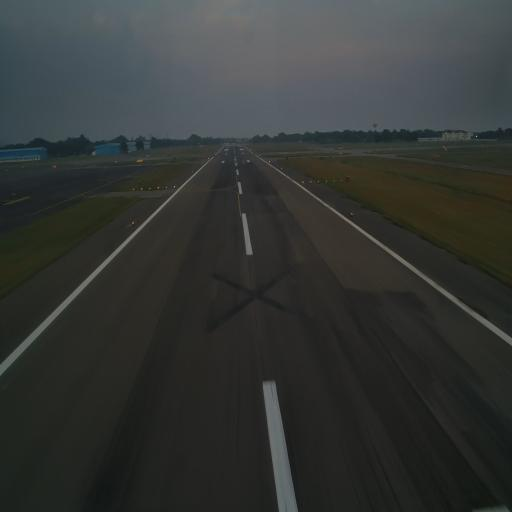on: (350, 210, 354, 217), (132, 220, 136, 226), (148, 186, 152, 192), (301, 179, 305, 185), (164, 185, 168, 190), (340, 178, 344, 183), (157, 185, 160, 191), (173, 184, 176, 190), (317, 179, 320, 185), (132, 186, 135, 191), (325, 179, 328, 184), (140, 187, 143, 191), (334, 179, 336, 184), (310, 180, 312, 184)
